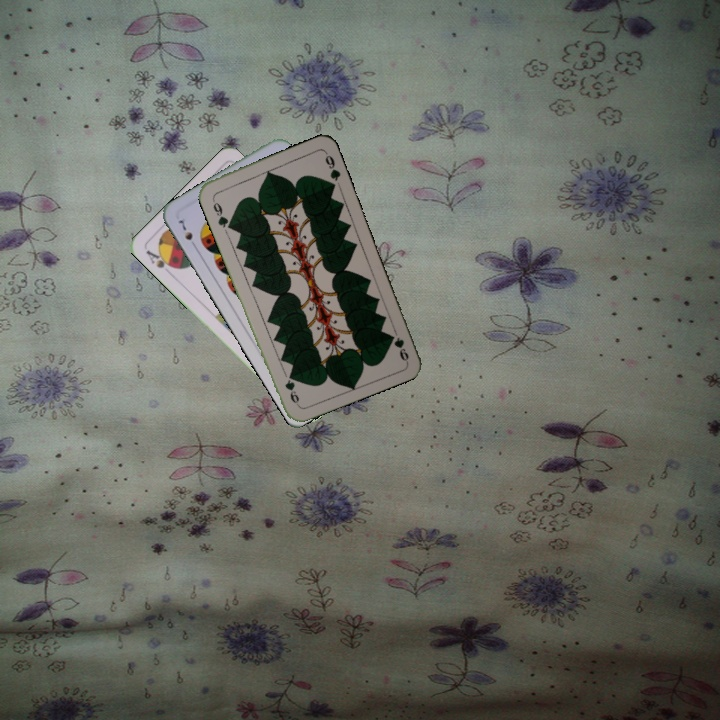G9: (208, 194, 233, 231), (386, 330, 411, 364)
S7: (174, 216, 199, 251)
SA: (142, 246, 178, 271)
